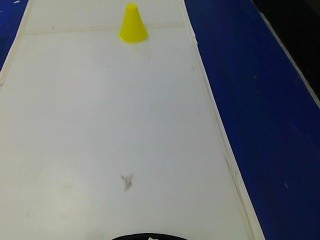cone: (117, 3, 151, 41)
